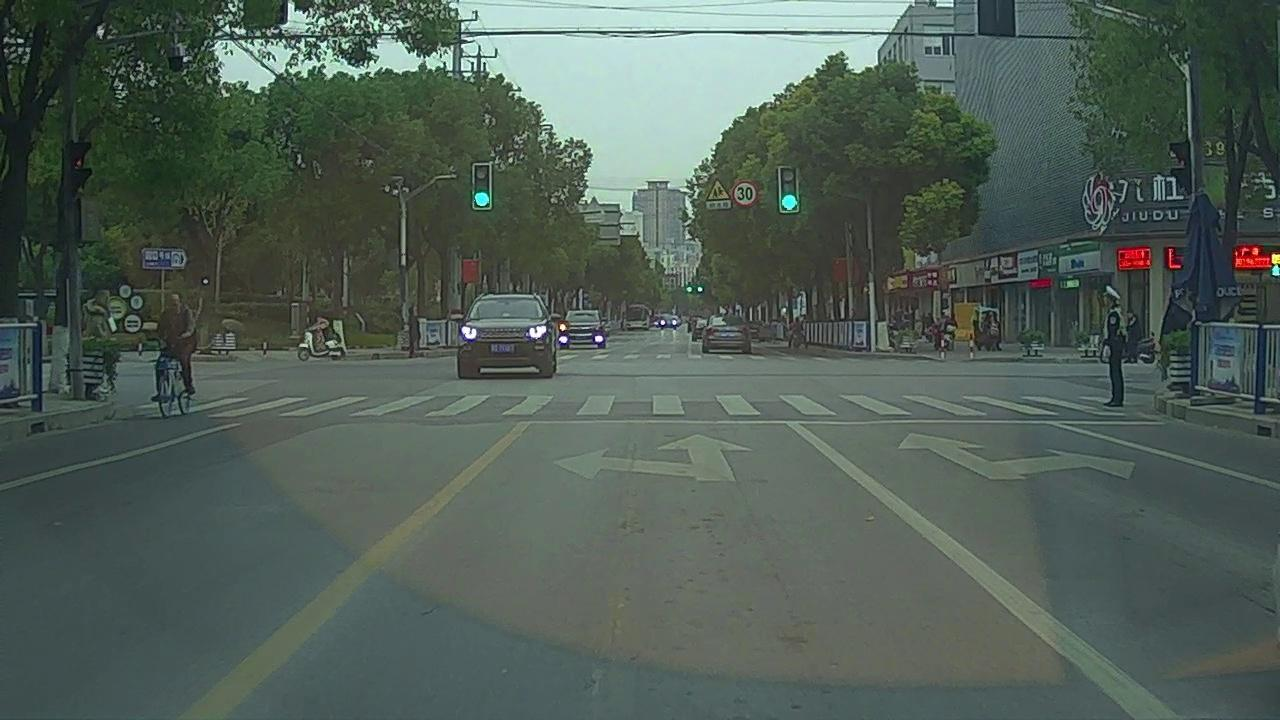traffic_light: (780, 167, 797, 213), (475, 164, 491, 208)
